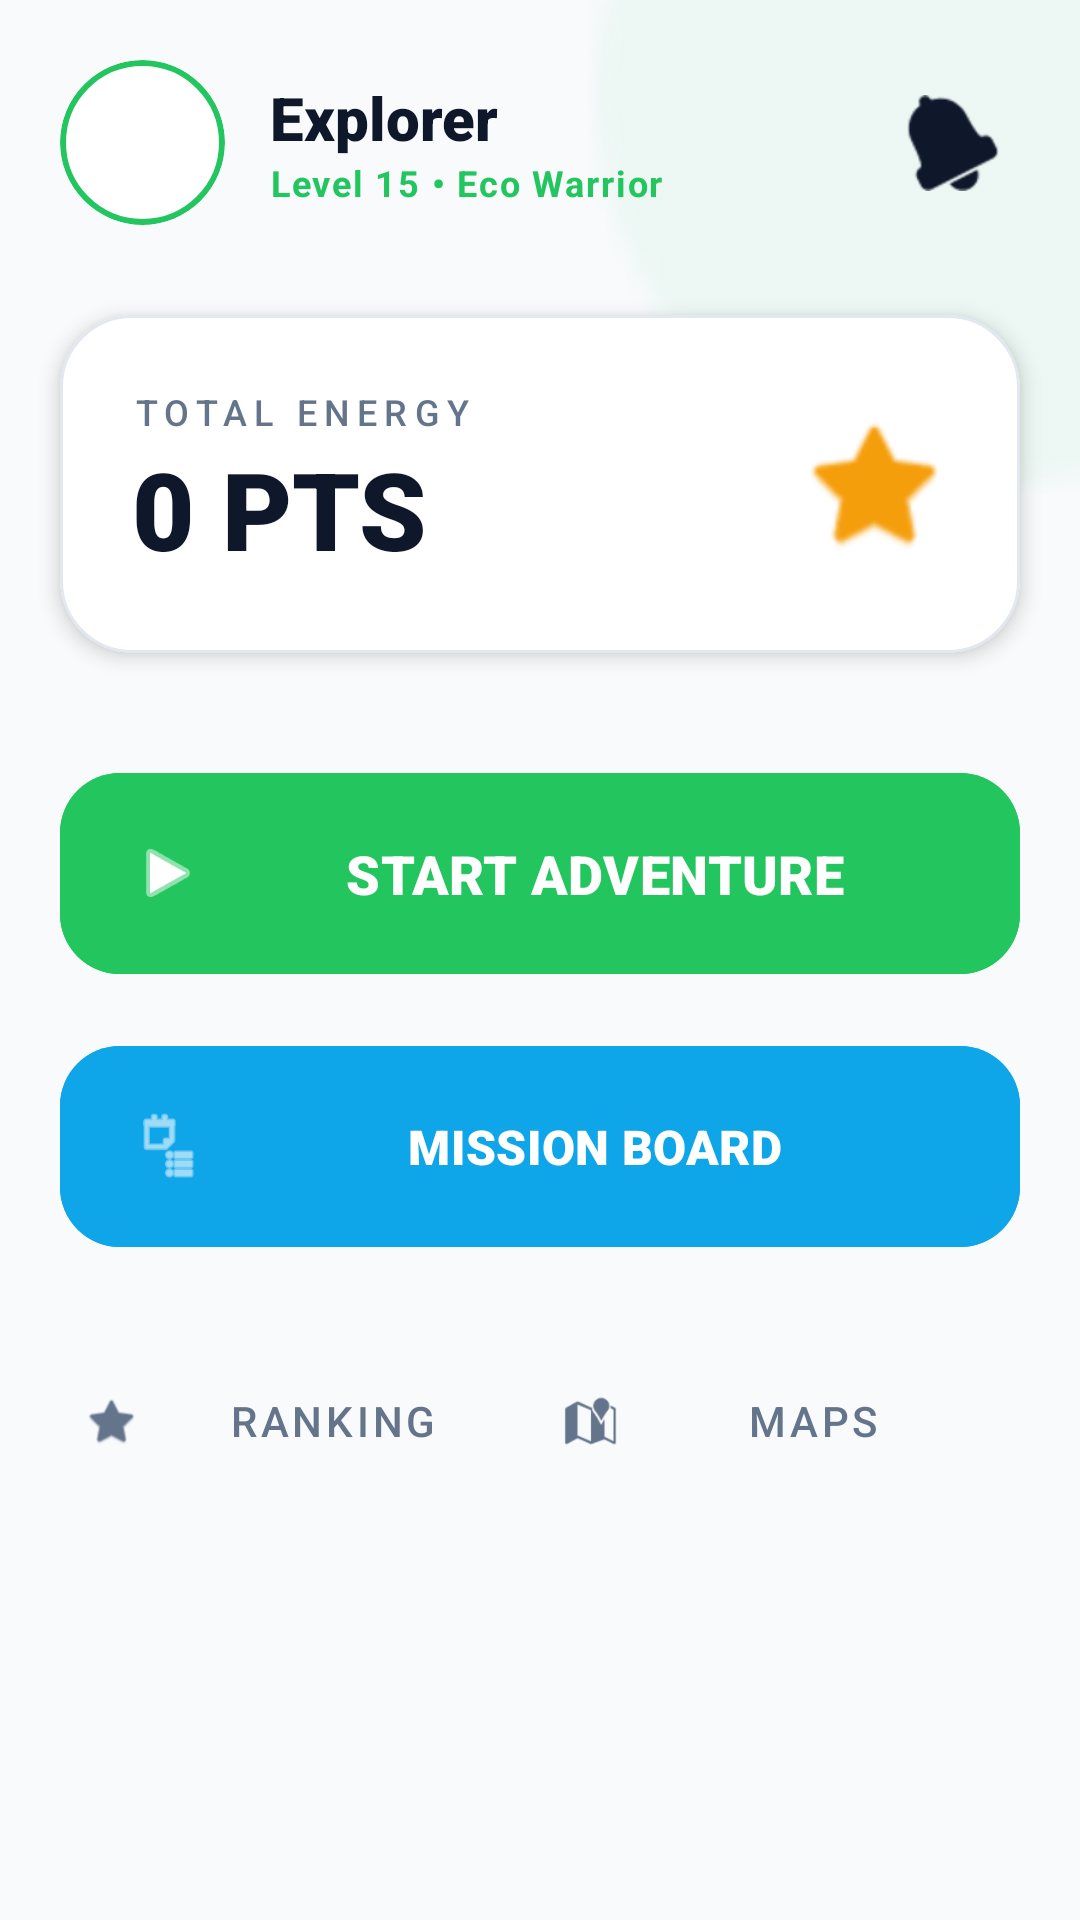

Icons on this 1080×1920 Android screen, each with its box as detection(x1, y1, x2, y2):
popup reminder: detection(908, 95, 998, 191)
star on: detection(811, 424, 937, 546)
